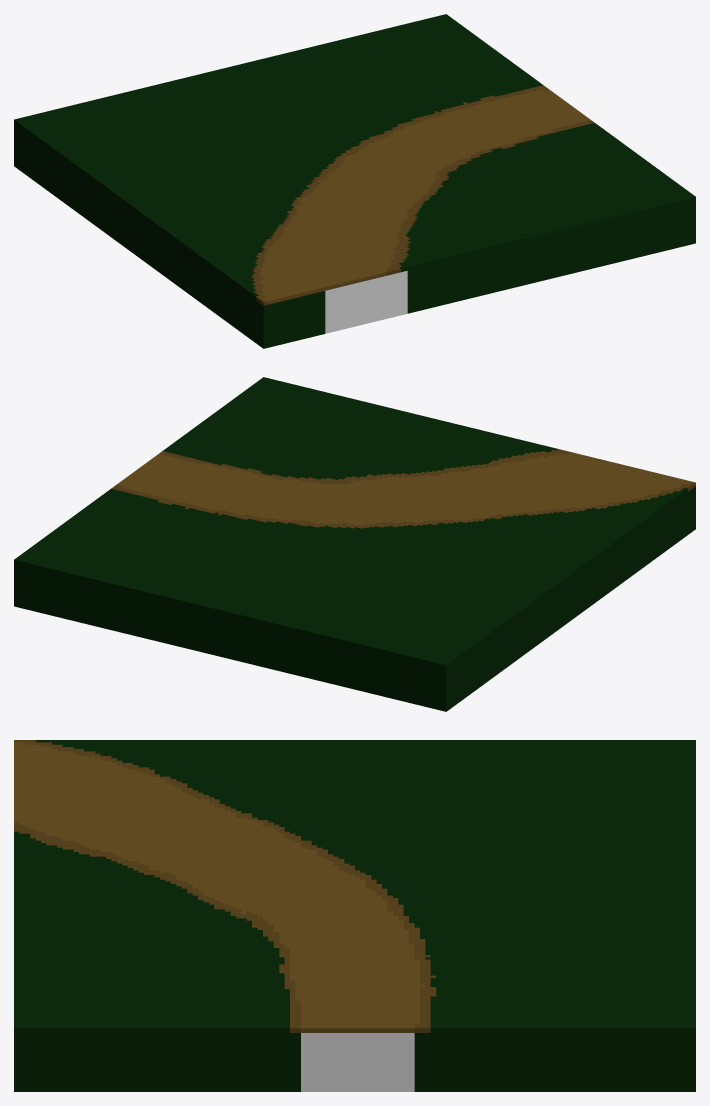
Rendered from map-33.obj.
3 views of the same model, one above another, from view 1: azimuth 30°, elevation 25°; view 2: azimuth 150°, elevation 25°; view 3: azimuth 270°, elevation 25° (orthographic). The views are drawn at different scales.
Parts seen in each view (by area): view 1: map-33; view 2: map-33; view 3: map-33.
Part boxes in pixels (x1,y1,x2,y2): map-33: (14,14,695,348); map-33: (14,377,695,711); map-33: (14,740,695,1091).
Size of the model in its own units: 126 by 13 by 126.
Materials: 1 (1 with a texture image).
